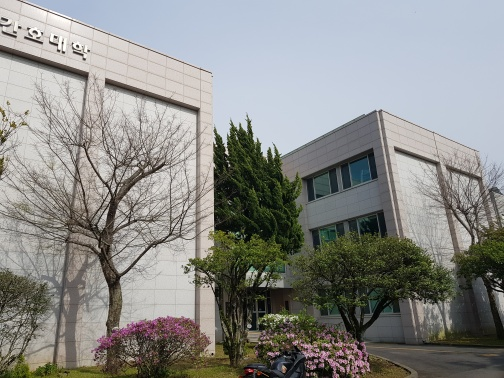College of Nursing: (13, 18, 493, 339), (1, 13, 97, 66)
